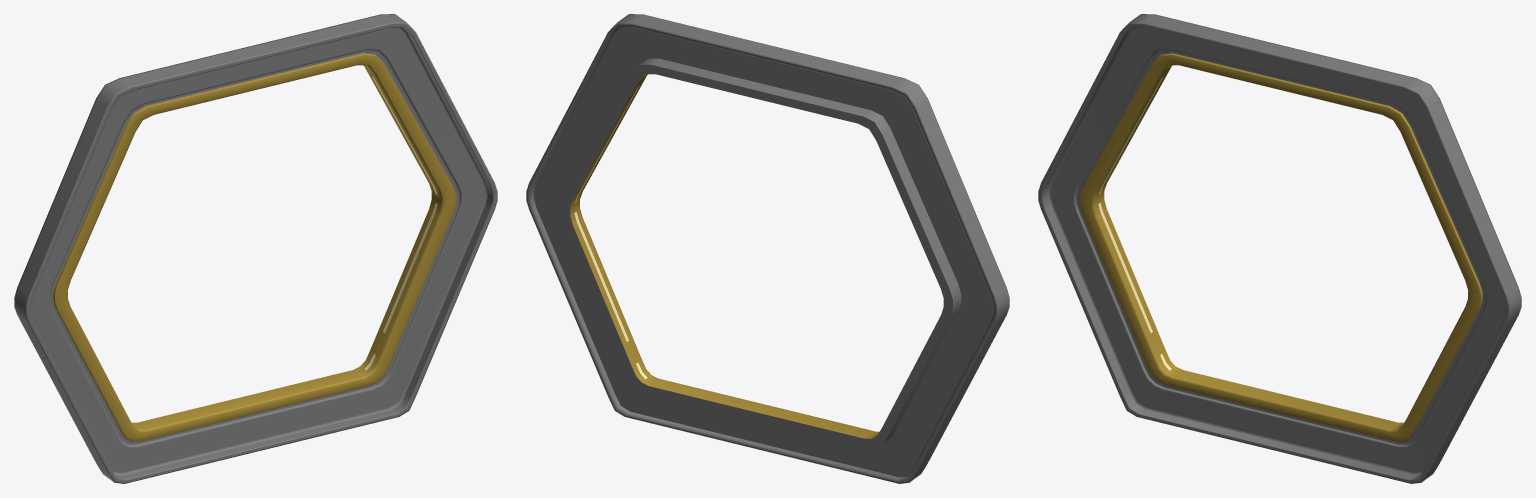
File: SA_Doorway_Frame.fbx
3 renders of one model, left to right at view 1: azimuth 30°, elevation 25°; view 2: azimuth 150°, elevation 25°; view 3: azimuth 330°, elevation 25°, orthographic.
Parts seen in each view (by area): view 1: SA_Doorway_Frame; view 2: SA_Doorway_Frame; view 3: SA_Doorway_Frame.
Boxes of the visible parts, x1,y1,x2,y2 form: SA_Doorway_Frame: (14, 14, 497, 483); SA_Doorway_Frame: (526, 14, 1009, 483); SA_Doorway_Frame: (1038, 14, 1521, 483).
Size of the model in its own units: 574 by 460 by 35.7.
